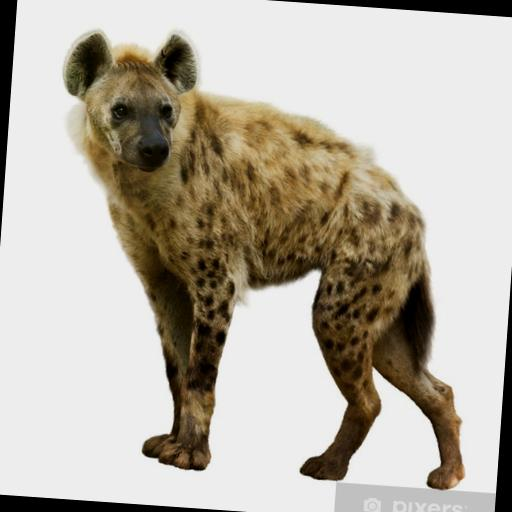hyenas: (23, 28, 489, 498)
